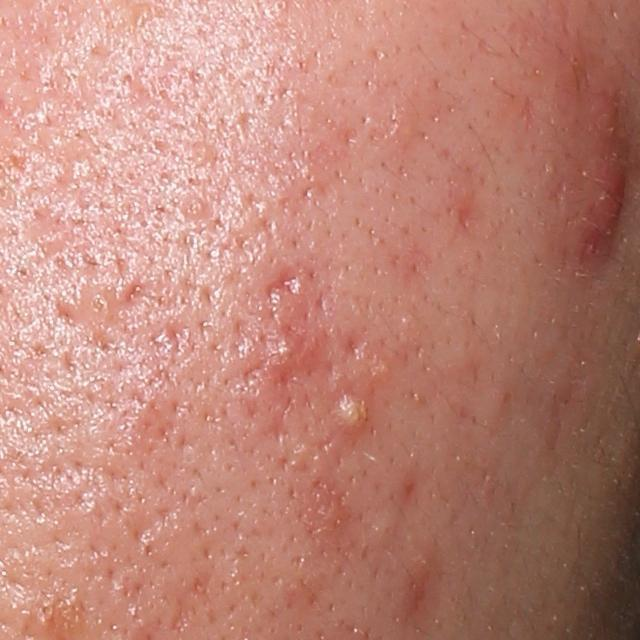atrophic_scar: (261, 261, 305, 306), (344, 332, 366, 361)
papule: (255, 317, 317, 390), (587, 171, 625, 233)
pustule: (336, 392, 371, 433)
